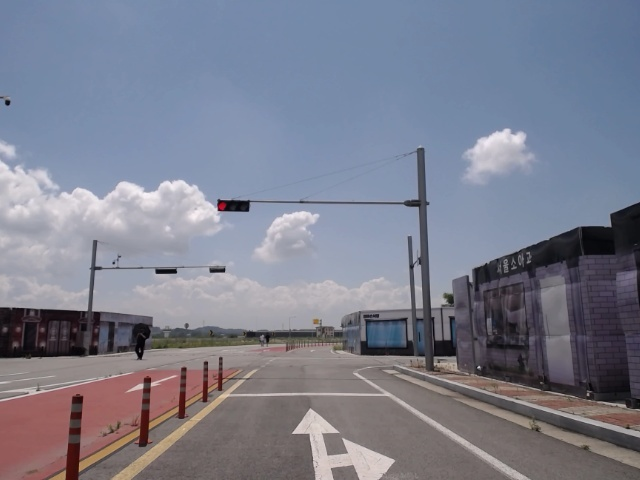red_3: (215, 200, 251, 212)
